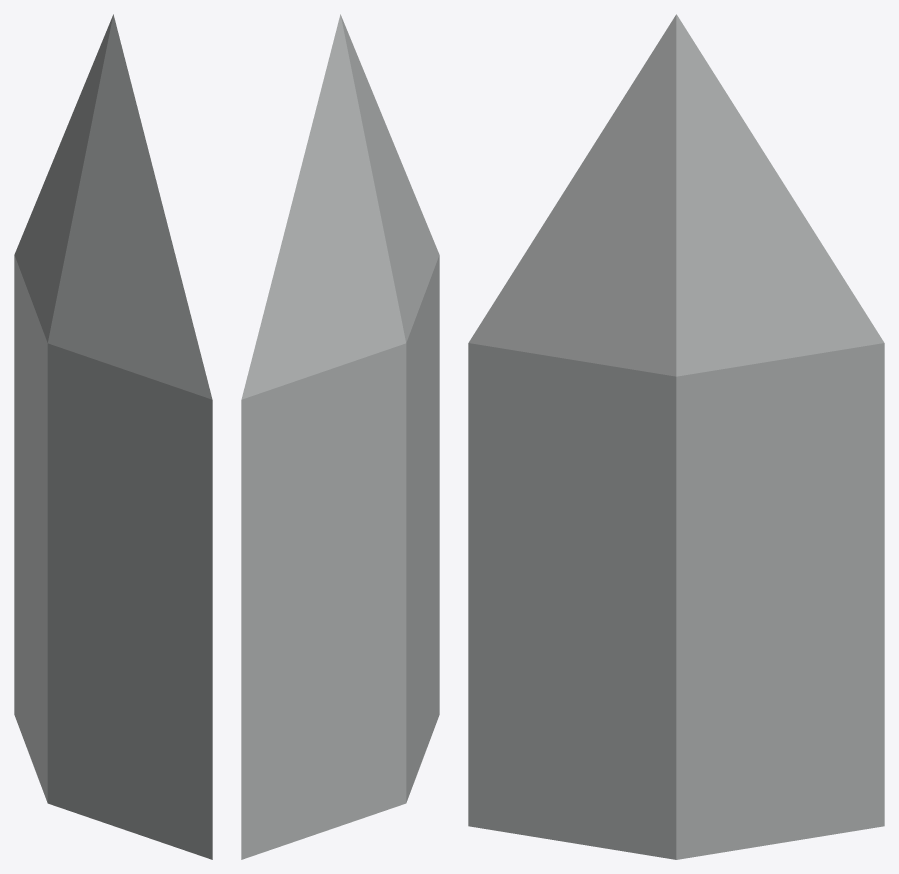
File: BladePieces_1_FINAL.fbx
3 views of the same model, side by side, from view 1: azimuth 30°, elevation 25°; view 2: azimuth 150°, elevation 25°; view 3: azimuth 270°, elevation 25° (orthographic). The views are drawn at different scales.
Parts seen in each view (by area): view 1: polySurface7; view 2: polySurface7; view 3: polySurface7.
Boxes of the visible parts, x1,y1,x2,y2 form: polySurface7: [14, 14, 212, 859]; polySurface7: [241, 14, 439, 859]; polySurface7: [468, 14, 884, 859].
Bounding box in the file's own units: 1.21 × 6.8 × 3.16.
1 material, 1 textured.
